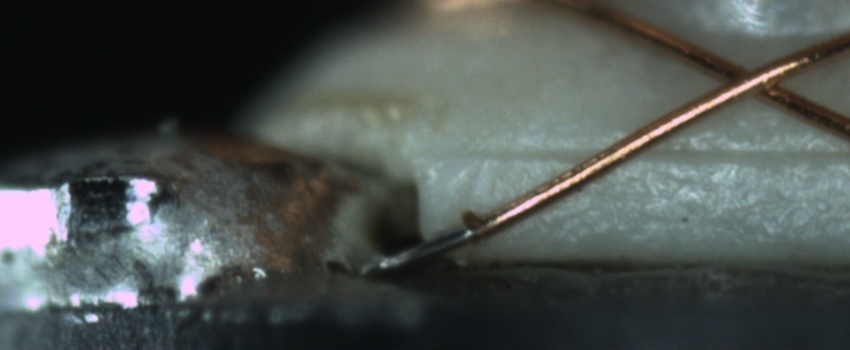CL: (695, 45, 804, 109)
DL: (462, 127, 849, 183)
TS: (376, 226, 476, 271)
